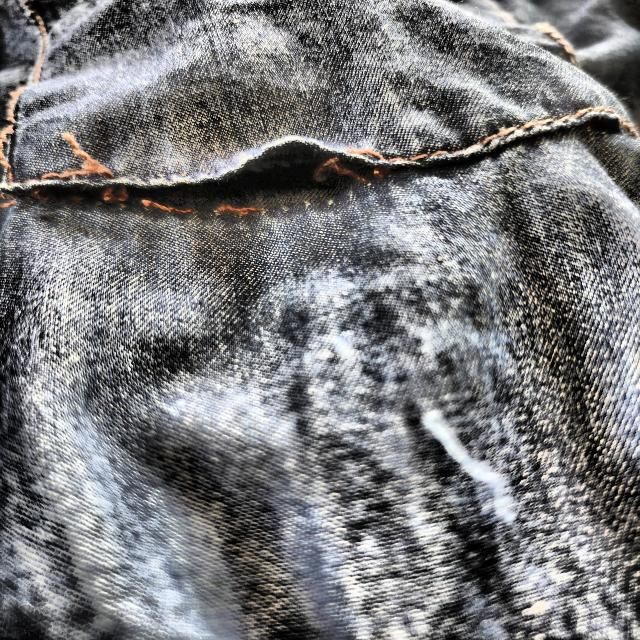seam: (4, 127, 432, 227)
